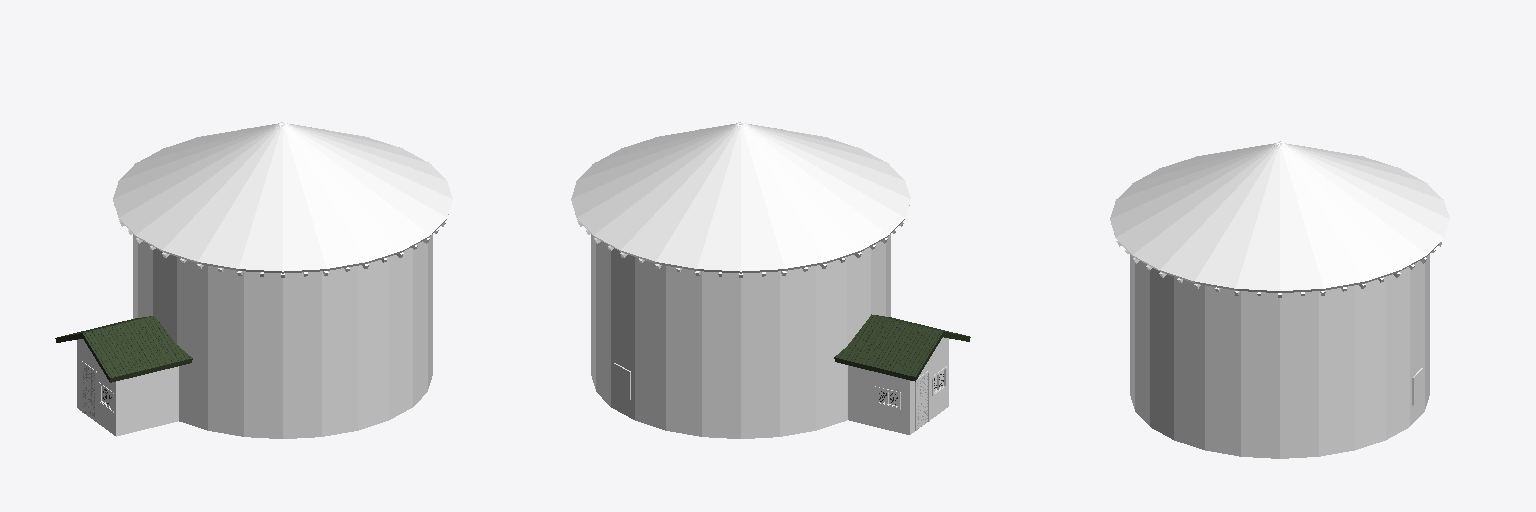
3 views of the same model, side by side, from view 1: azimuth 30°, elevation 25°; view 2: azimuth 150°, elevation 25°; view 3: azimuth 270°, elevation 25° (orthographic).
Parts seen in each view (by area): view 1: mesh140_mesh140-geometry, mesh1_mesh1-geometry, mesh132_mesh132-geometry, mesh98_mesh98-geometry, mesh110_mesh110-geometry, mesh120_mesh120-geometry, mesh104_mesh104-geometry, mesh106_mesh106-geometry, mesh90_mesh90-geometry, mesh128_mesh128-geometry, mesh114_mesh114-geometry, mesh86_mesh86-geometry (+4 smaller); view 2: mesh140_mesh140-geometry, mesh1_mesh1-geometry, mesh132_mesh132-geometry, mesh118_mesh118-geometry, mesh122_mesh122-geometry, mesh88_mesh88-geometry, mesh94_mesh94-geometry, mesh108_mesh108-geometry, mesh126_mesh126-geometry, mesh100_mesh100-geometry, mesh112_mesh112-geometry, mesh86_mesh86-geometry (+4 smaller); view 3: mesh140_mesh140-geometry, mesh1_mesh1-geometry, mesh102_mesh102-geometry, mesh96_mesh96-geometry, mesh130_mesh130-geometry, mesh124_mesh124-geometry, mesh92_mesh92-geometry, mesh84_mesh84-geometry, mesh116_mesh116-geometry, mesh112_mesh112-geometry, mesh114_mesh114-geometry, mesh90_mesh90-geometry (+2 smaller).
Part boxes in pixels (bbox=[...]): mesh140_mesh140-geometry: bbox=[77, 234, 432, 438]; mesh1_mesh1-geometry: bbox=[113, 126, 451, 271]; mesh132_mesh132-geometry: bbox=[57, 316, 191, 377]; mesh98_mesh98-geometry: bbox=[280, 123, 329, 268]; mesh110_mesh110-geometry: bbox=[236, 123, 285, 268]; mesh120_mesh120-geometry: bbox=[195, 122, 284, 261]; mesh104_mesh104-geometry: bbox=[280, 125, 285, 270]; mesh106_mesh106-geometry: bbox=[281, 122, 369, 261]; mesh90_mesh90-geometry: bbox=[281, 122, 404, 250]; mesh128_mesh128-geometry: bbox=[161, 122, 283, 250]; mesh114_mesh114-geometry: bbox=[282, 123, 431, 236]; mesh86_mesh86-geometry: bbox=[134, 123, 283, 235]; mesh140_mesh140-geometry: bbox=[591, 234, 948, 438]; mesh1_mesh1-geometry: bbox=[572, 126, 910, 271]; mesh132_mesh132-geometry: bbox=[835, 314, 969, 376]; mesh118_mesh118-geometry: bbox=[694, 123, 743, 268]; mesh122_mesh122-geometry: bbox=[738, 123, 787, 268]; mesh88_mesh88-geometry: bbox=[654, 122, 742, 261]; mesh94_mesh94-geometry: bbox=[739, 122, 828, 261]; mesh108_mesh108-geometry: bbox=[738, 125, 743, 270]; mesh126_mesh126-geometry: bbox=[740, 122, 862, 250]; mesh100_mesh100-geometry: bbox=[619, 122, 742, 250]; mesh112_mesh112-geometry: bbox=[592, 123, 741, 236]; mesh86_mesh86-geometry: bbox=[740, 123, 889, 235]; mesh140_mesh140-geometry: bbox=[1130, 254, 1429, 458]; mesh1_mesh1-geometry: bbox=[1110, 145, 1449, 290]; mesh102_mesh102-geometry: bbox=[1233, 142, 1282, 288]; mesh96_mesh96-geometry: bbox=[1277, 142, 1326, 288]; mesh130_mesh130-geometry: bbox=[1192, 142, 1282, 281]; mesh124_mesh124-geometry: bbox=[1277, 142, 1367, 281]; mesh92_mesh92-geometry: bbox=[1277, 147, 1282, 290]; mesh84_mesh84-geometry: bbox=[1278, 142, 1401, 270]; mesh116_mesh116-geometry: bbox=[1158, 142, 1281, 270]; mesh112_mesh112-geometry: bbox=[1279, 143, 1427, 255]; mesh114_mesh114-geometry: bbox=[1132, 143, 1280, 255]; mesh90_mesh90-geometry: bbox=[1115, 143, 1277, 238].
Size of the model in its own units: 0.6748 by 0.4681 by 0.5706.
10 materials, 1 textured.